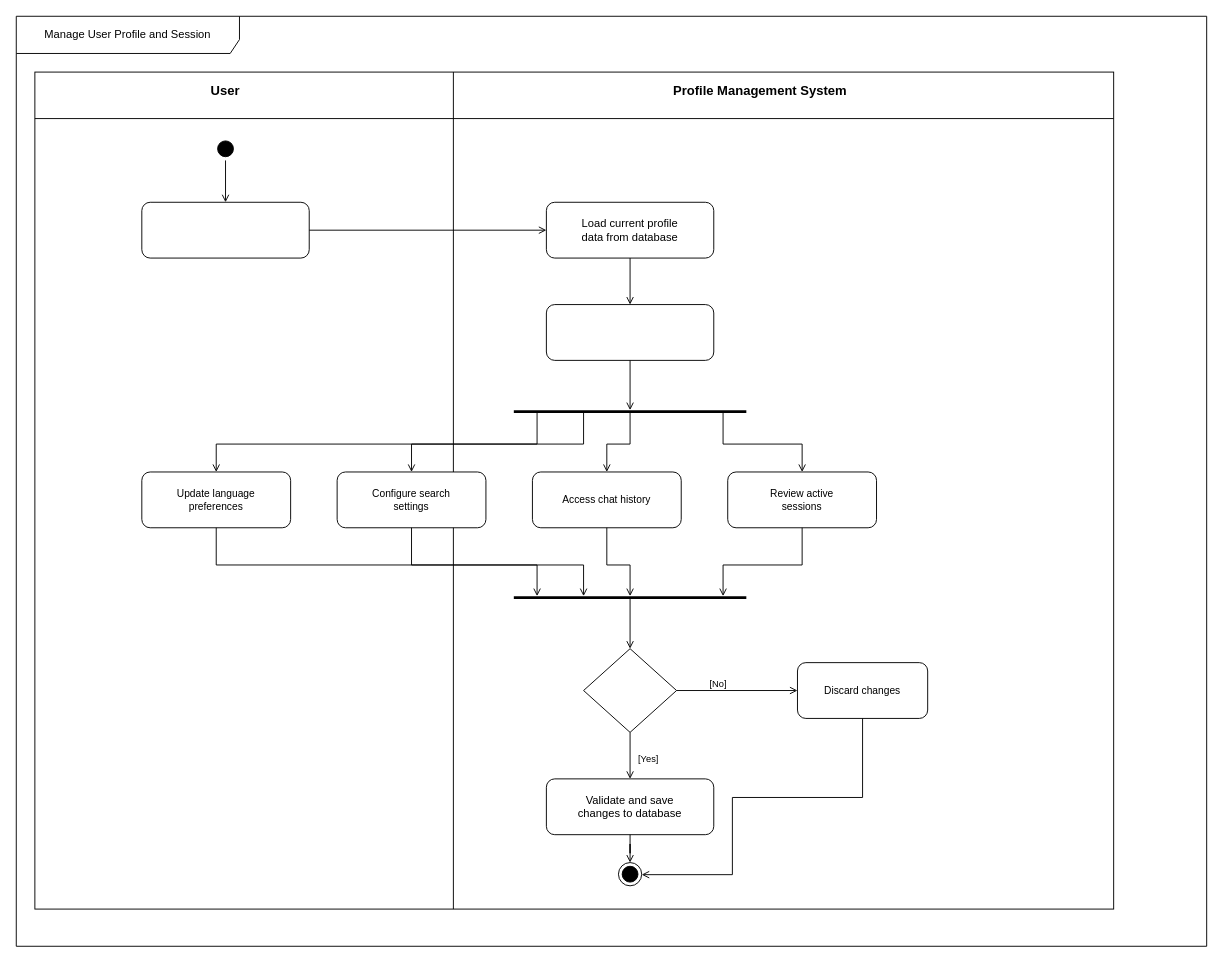
Some shapes in this 1223 by 963 pixel diagram are drawn without their labels. The shapes that lost their labels are listed below. From the top down, each one's centre as x and y in pixels, then its label:
(x=225, y=229): Navigate to profile settings page
(x=629, y=332): Display profile form with current values
(x=630, y=690): Save Changes?
